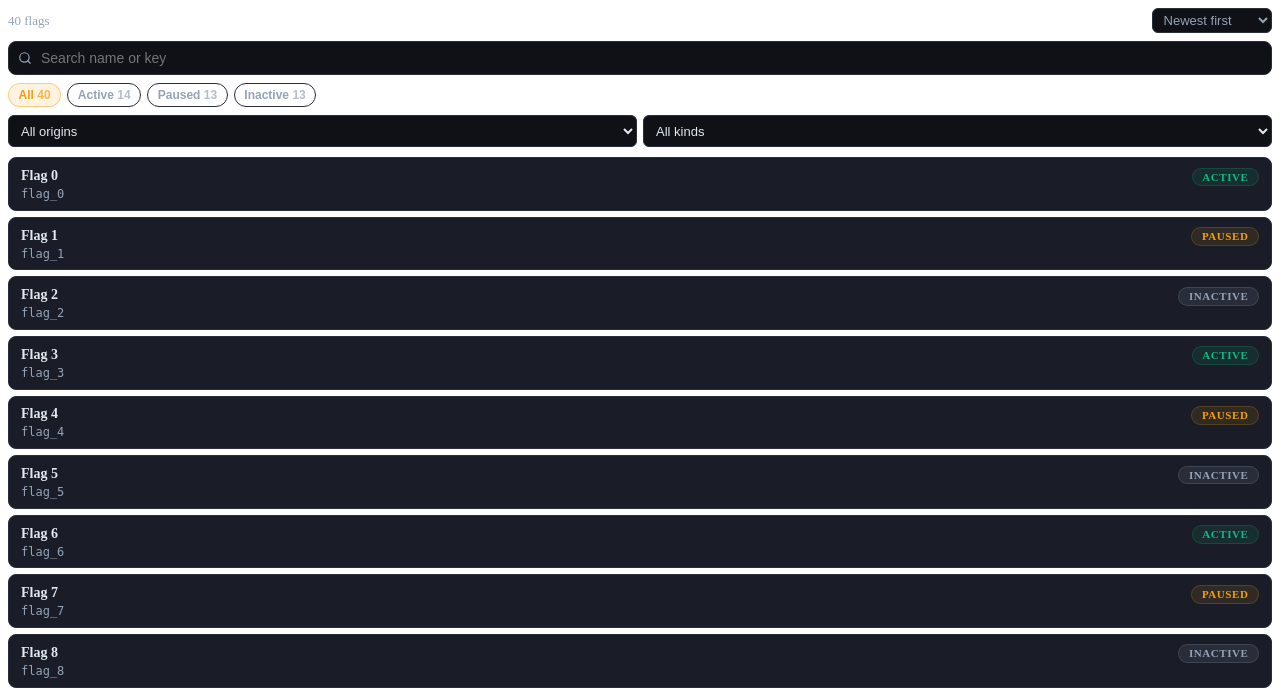
Test case: FlagList › shows a no-match state that clears the filters
The width and height of the screenshot is (1280, 694).
Type "nothing-like-this" into the search field named "Search flags" at (640, 58), box [8,41,1272,75]
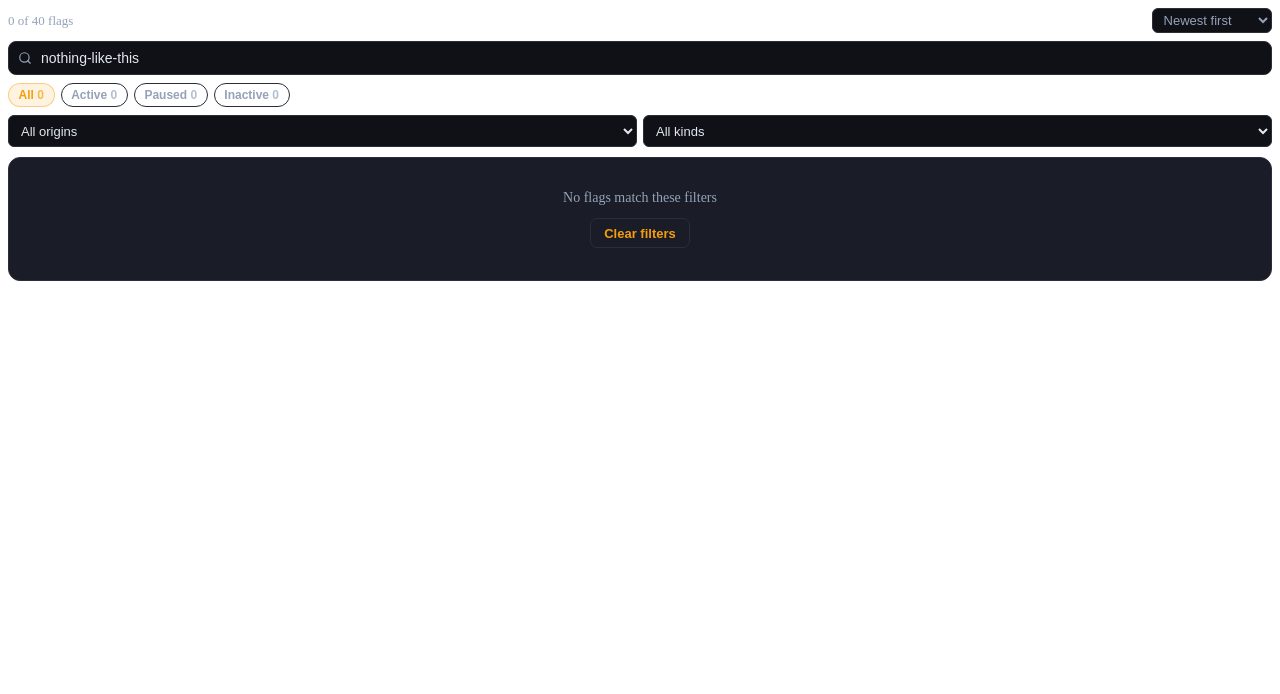
Result: the text "No flags match these filters" is shown at [563,190,717,205]
Click the button "Clear filters" at (640, 233), box [590,218,690,248]
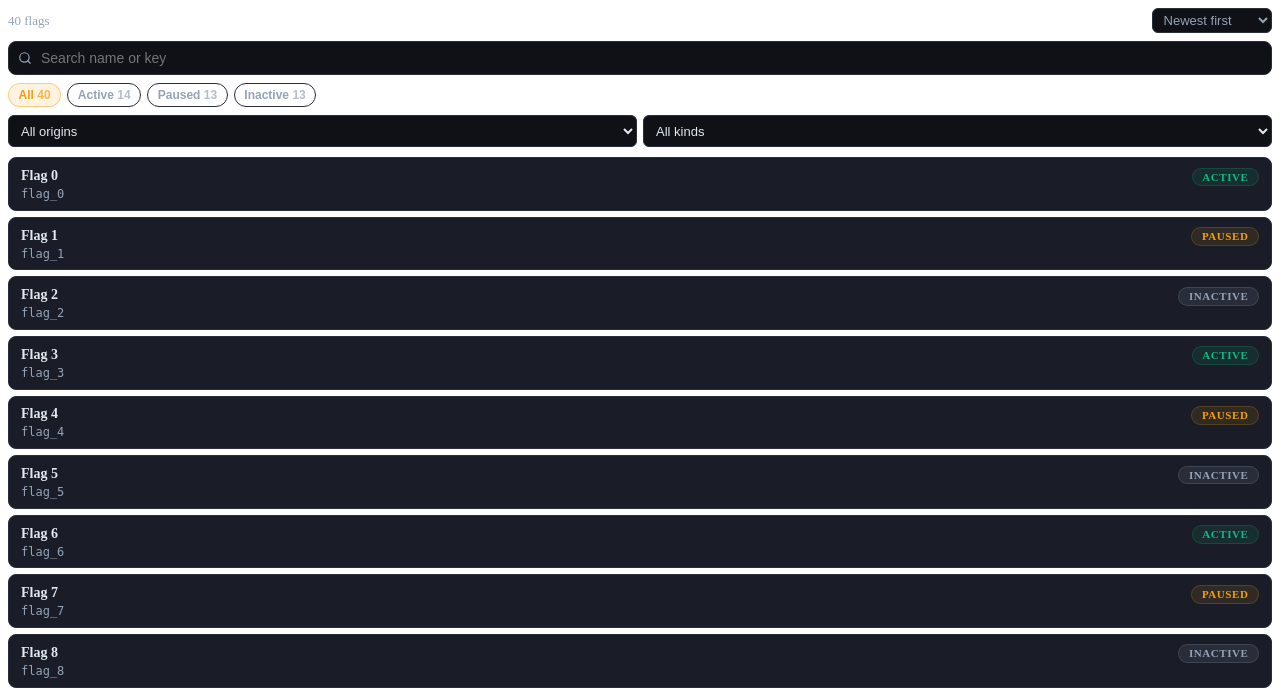
Result: the number of list items is 40
